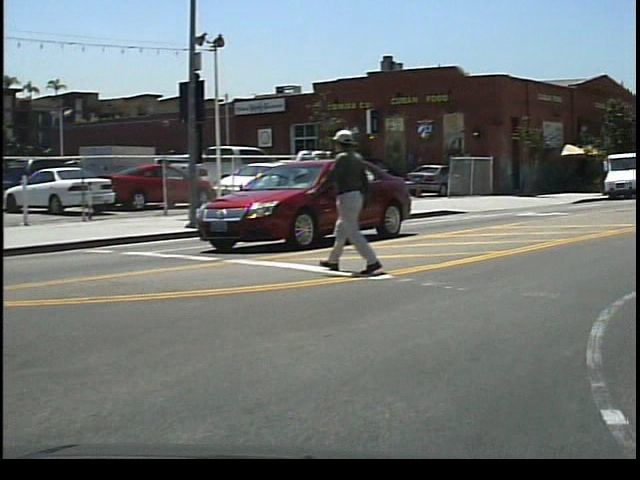person: (325, 127, 399, 288)
